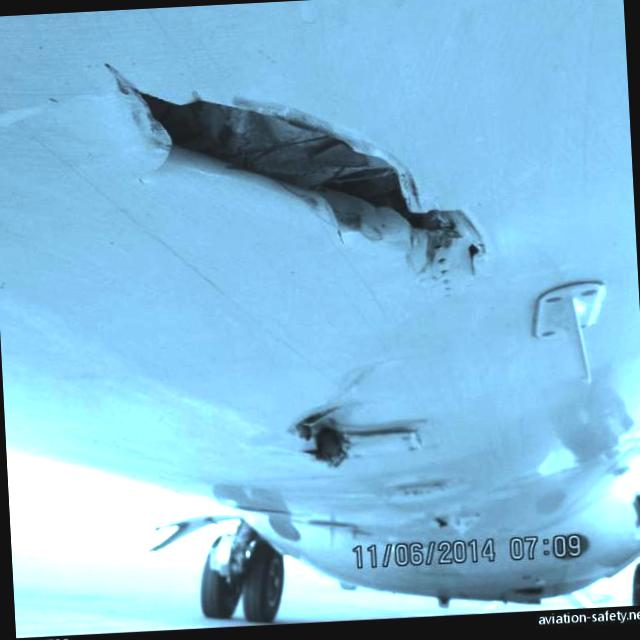crack: (110, 48, 488, 292)
